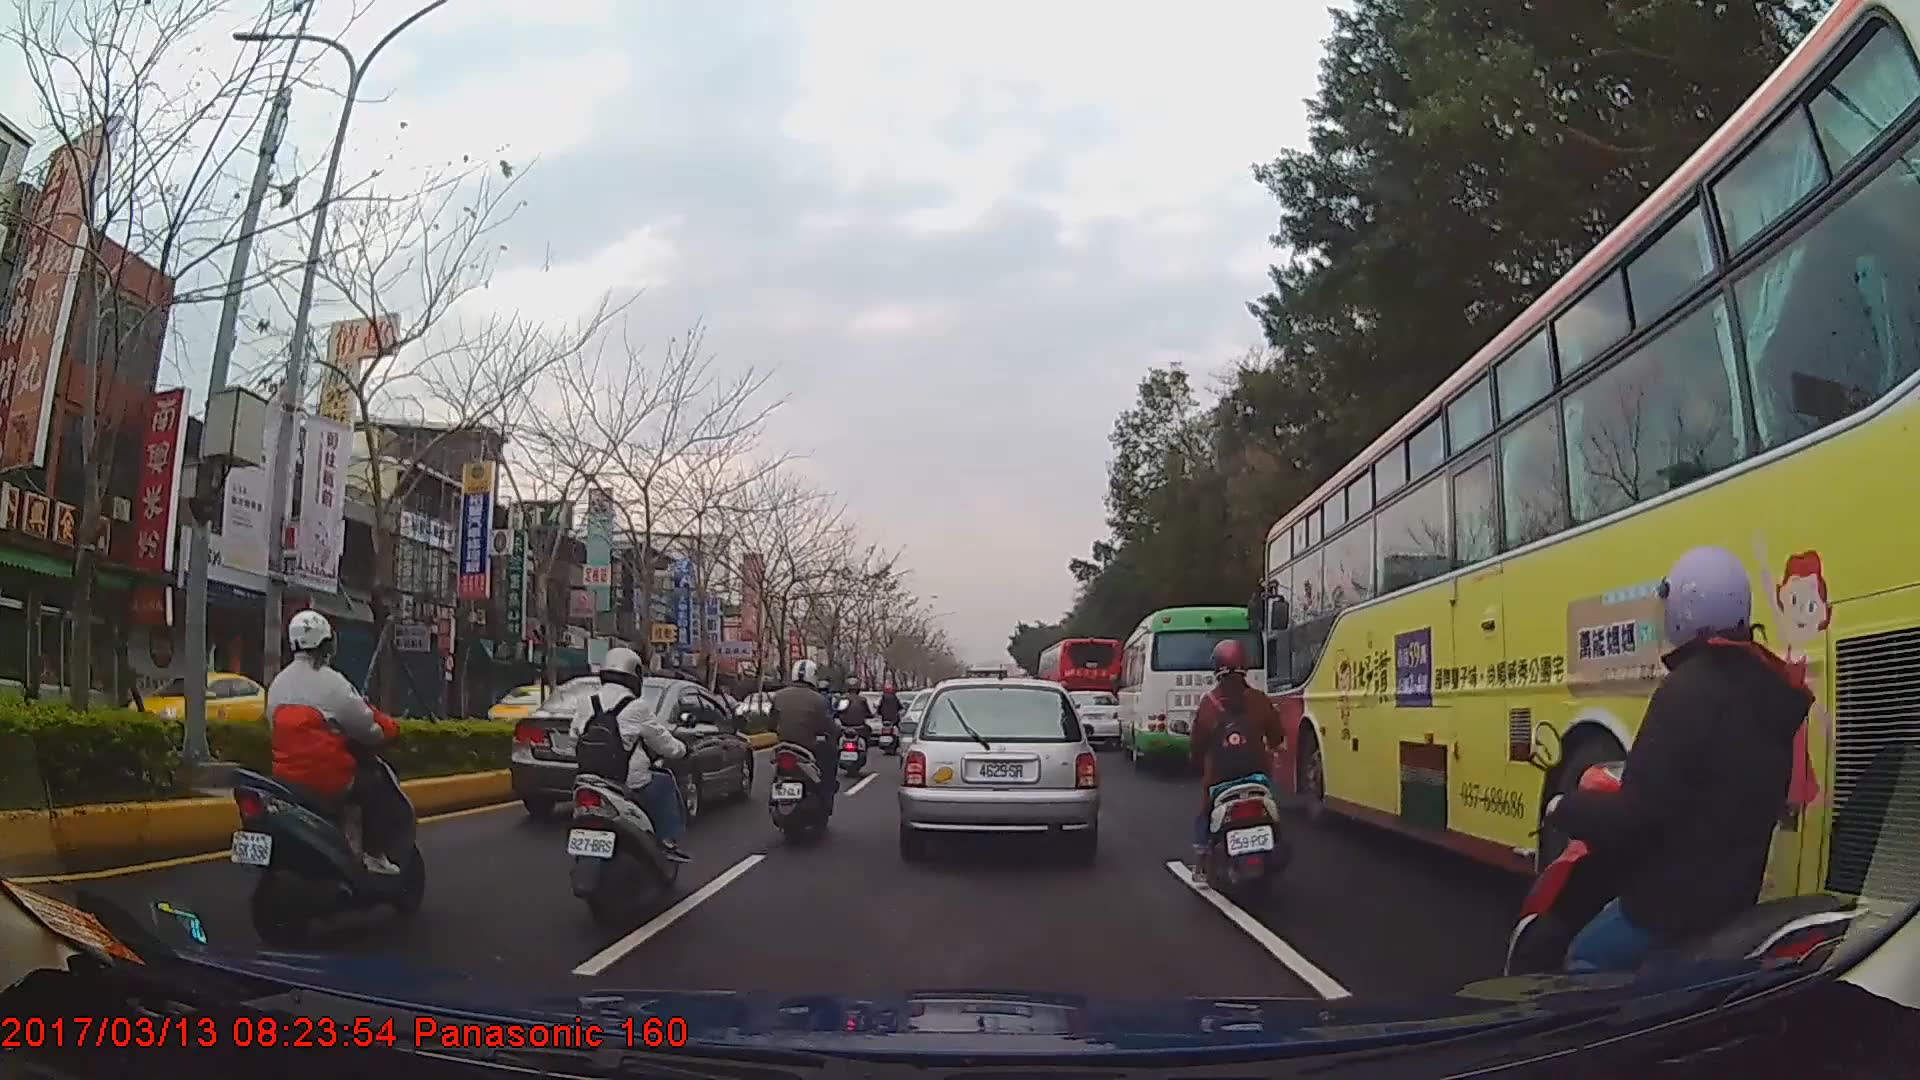rider: (1510, 546, 1892, 1049), (230, 604, 426, 949), (563, 641, 687, 933), (1170, 635, 1288, 904), (758, 657, 840, 844), (836, 677, 876, 775), (877, 682, 904, 755)
vehicle: (1261, 0, 1920, 954), (506, 672, 752, 821), (902, 673, 1097, 855), (1115, 605, 1265, 772), (115, 660, 288, 744), (1037, 634, 1122, 739)
